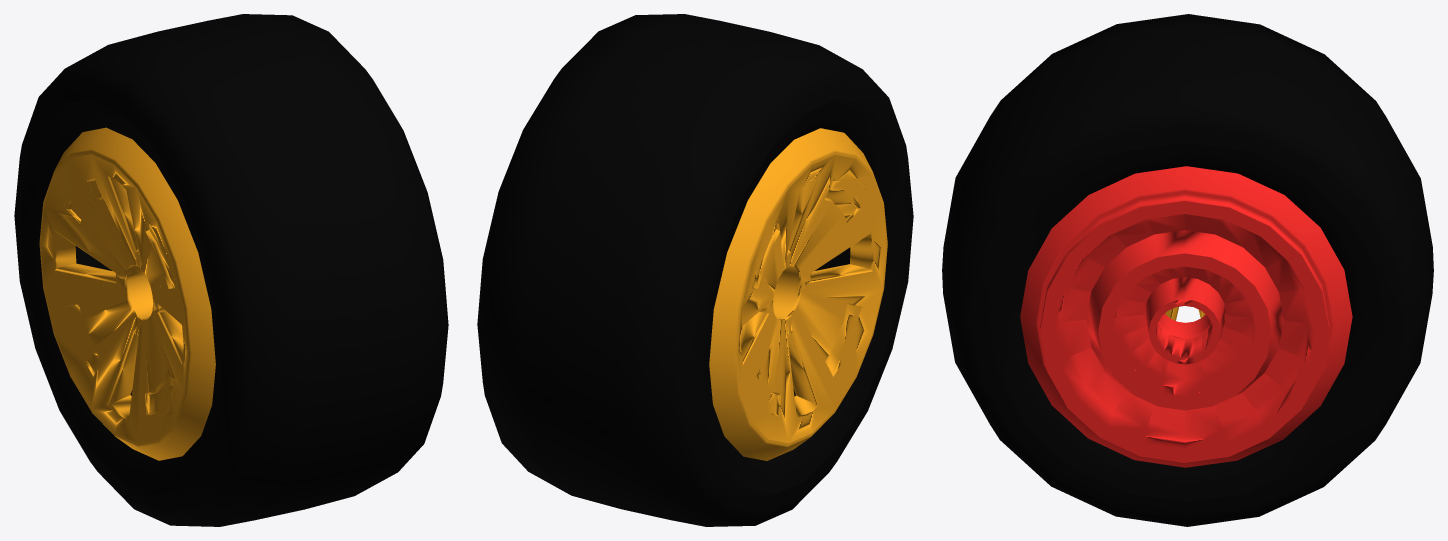
The model's file is Wheel_FR.obj.
3 renders of one model, left to right at view 1: azimuth 30°, elevation 25°; view 2: azimuth 150°, elevation 25°; view 3: azimuth 270°, elevation 25°, orthographic. The views are drawn at different scales.
Visible parts, largest first — view 1: Wheel_FR; view 2: Wheel_FR; view 3: Wheel_FR.
Boxes of the visible parts, bbox=[...] form: Wheel_FR: bbox=[14, 14, 448, 526]; Wheel_FR: bbox=[477, 14, 913, 526]; Wheel_FR: bbox=[942, 14, 1433, 526].
Size of the model in its own units: 1.1 by 1.92 by 1.92.
